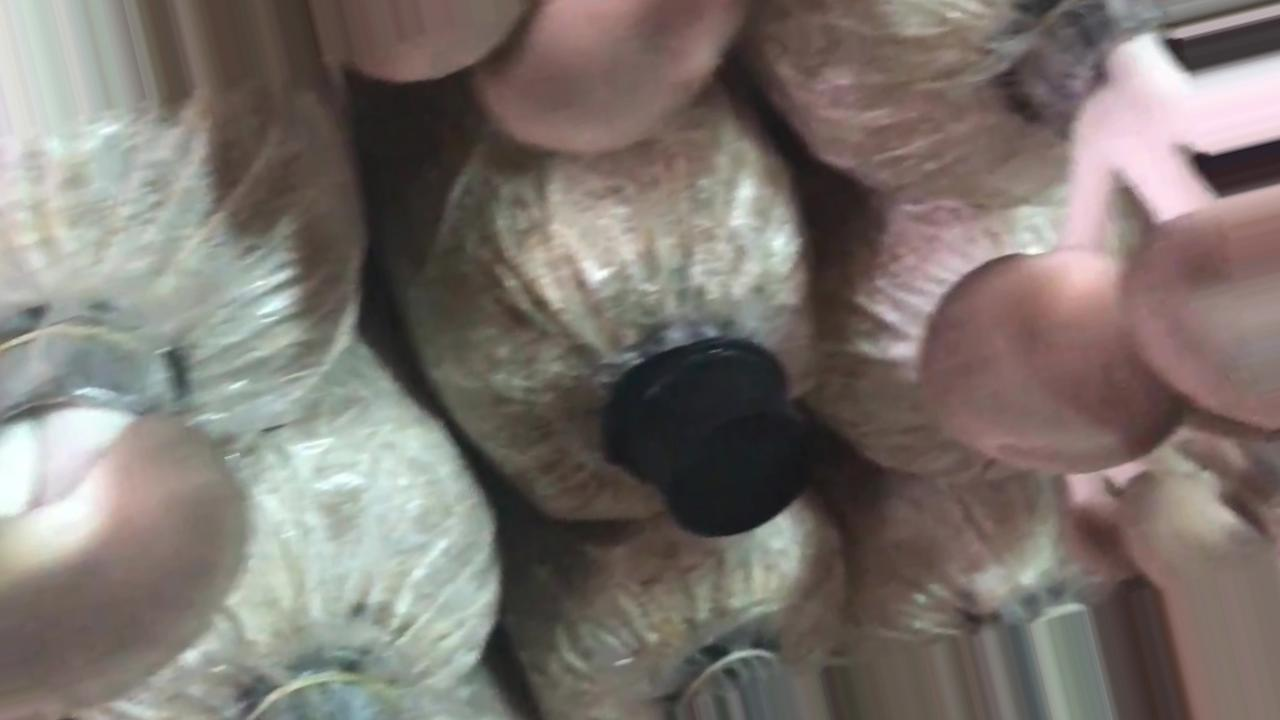nam: (916, 4, 1280, 484), (1, 306, 257, 718)
